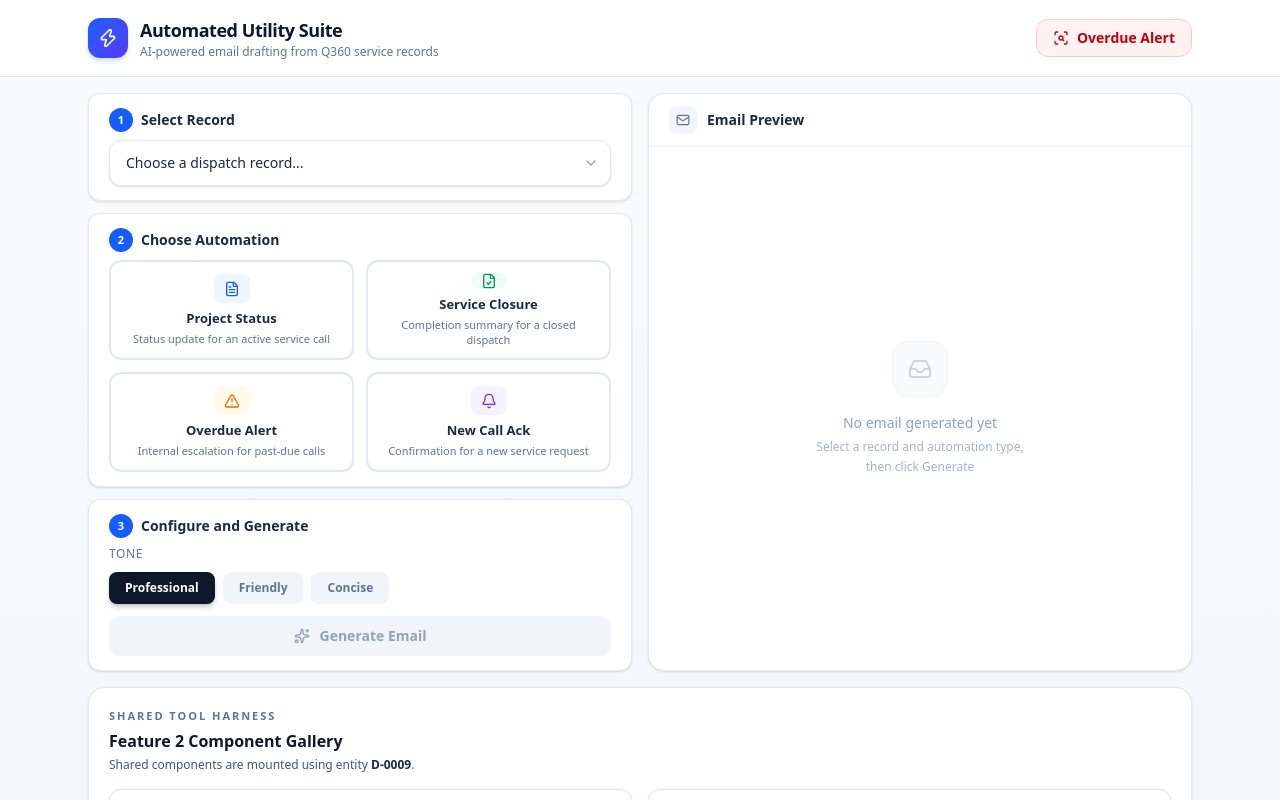
Test case: Feature2Page — record clears when automation type changes › disables Generate button after switching automation type
The width and height of the screenshot is (1280, 800).
Click the button "Service Closure Completion summary for a closed dispatch": (488, 310) 366,260 -> 611,360
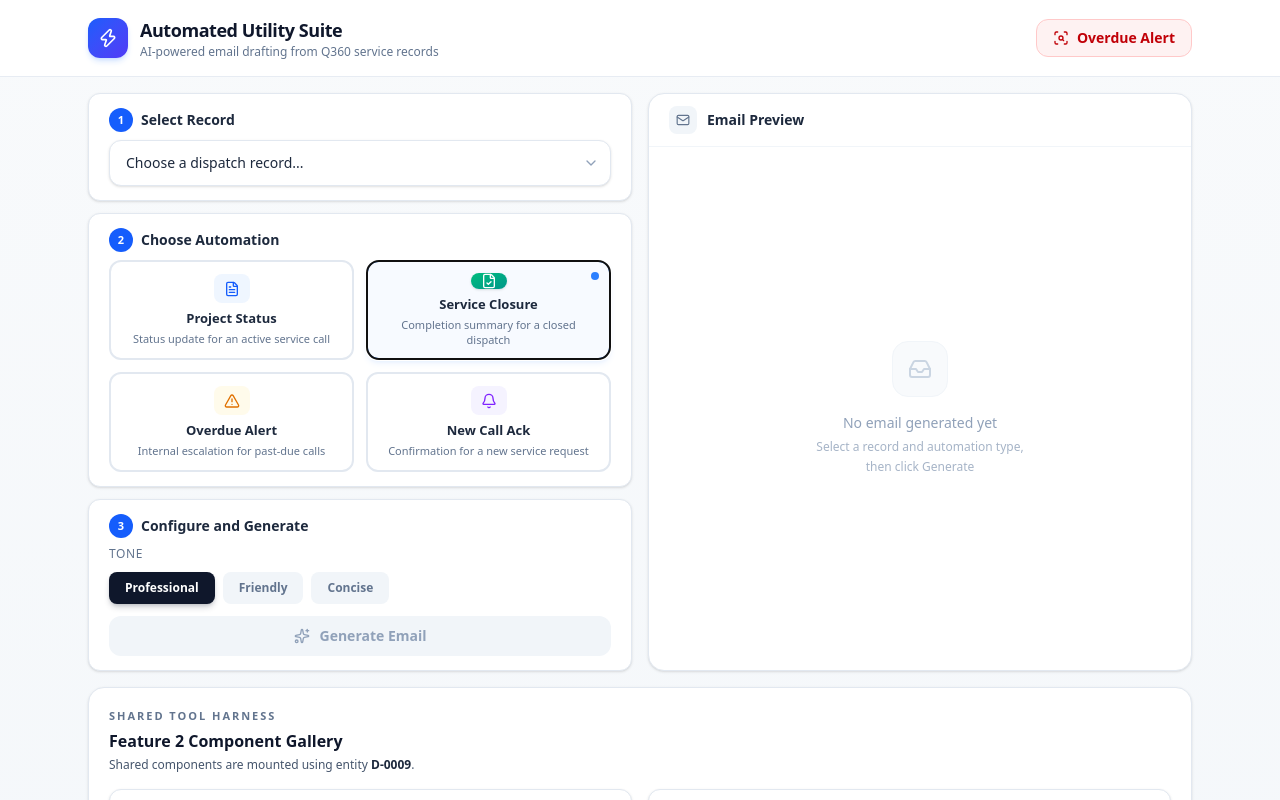
Select "[D-CLOSED] Closure Co - CLOSED" in the dropdown: (360, 163) 109,140 -> 611,186
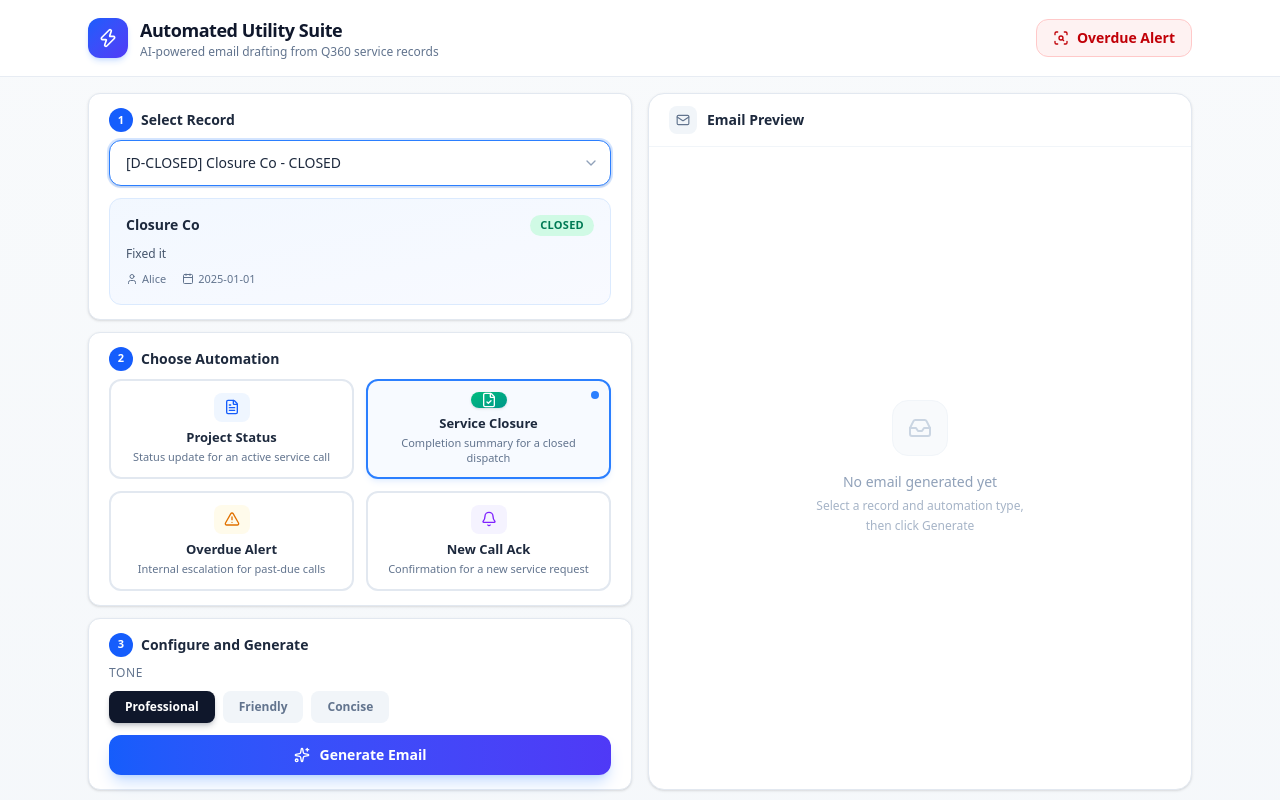
Click the button "Project Status Status update for an active service call": (232, 428) 109,378 -> 354,478
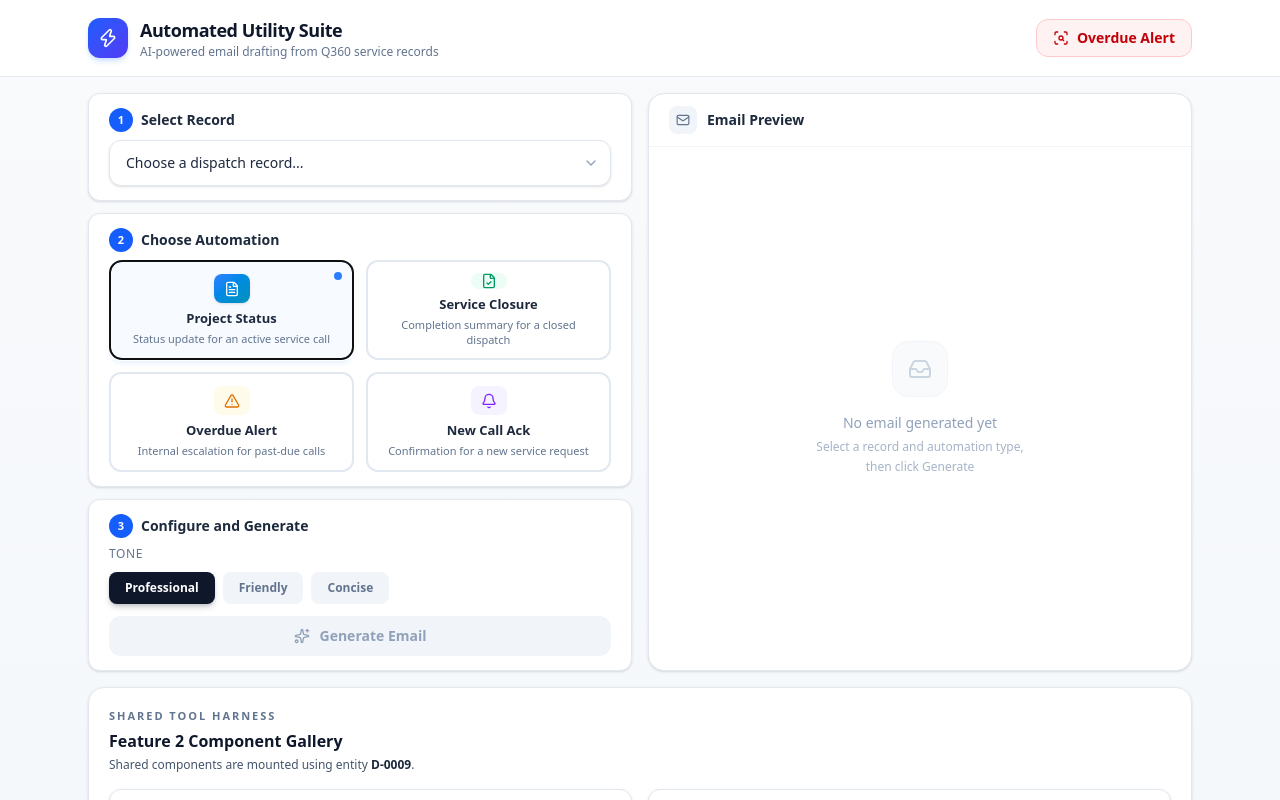
Check: the button "Generate Email" is disabled, box 109,616 -> 611,656
